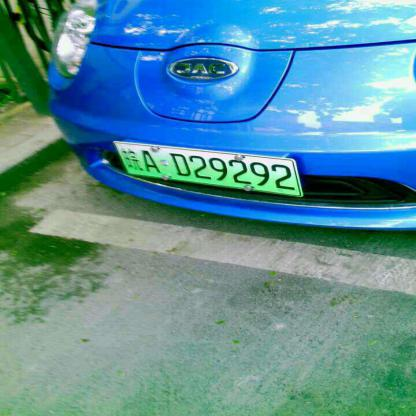lp: (110, 142, 301, 194)
